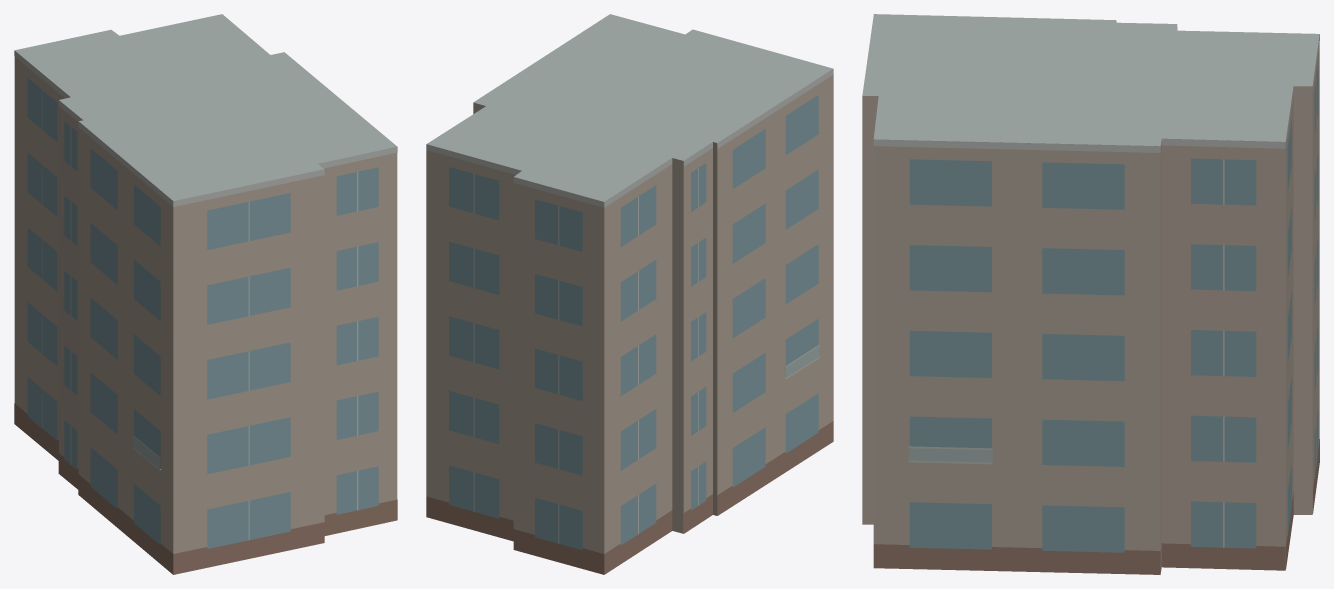
Rendered from survey-upis-32547841.glb.
3 renders of one model, left to right at view 1: azimuth 30°, elevation 25°; view 2: azimuth 150°, elevation 25°; view 3: azimuth 270°, elevation 25°, orthographic. The views are drawn at different scales.
Visible parts, largest first — view 1: survey-upis-32547841.tmp; view 2: survey-upis-32547841.tmp; view 3: survey-upis-32547841.tmp.
Part boxes in pixels (bbox=[...]): survey-upis-32547841.tmp: bbox=[14, 14, 397, 574]; survey-upis-32547841.tmp: bbox=[426, 14, 833, 574]; survey-upis-32547841.tmp: bbox=[862, 14, 1319, 574].
Size of the model in its own units: 10.19 by 15.4 by 14.9.
